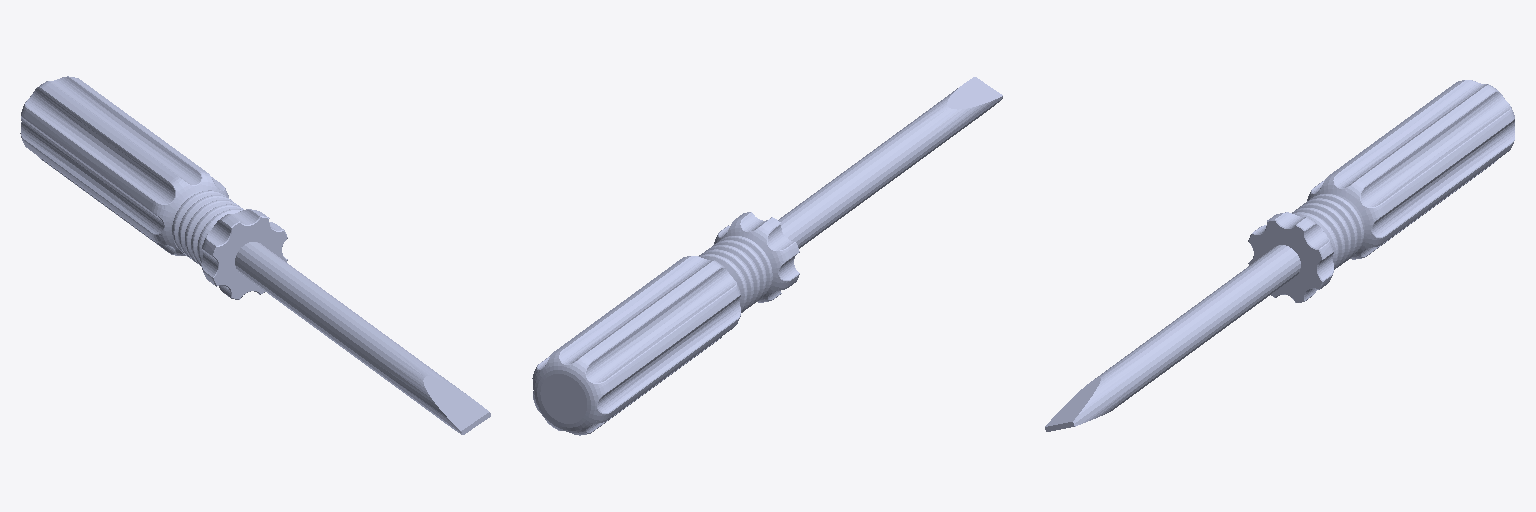
URDF robot description (screwdriver_flathead):
<robot
  name="screwdriver_flathead">
  <link
    name="screwdriver_flathead">
    <inertial>
      <origin
        xyz="-2.5375E-07 -0.14813 -8.471299999093E-08"
        rpy="0 0 0" />
      <mass
        value="0.44245" />
      <inertia
        ixx="0.00496369316155027"
        ixy="1.51493739646637E-08"
        ixz="1.73323032923498E-08"
        iyy="8.96282349725575E-05"
        iyz="-4.38558257116339E-09"
        izz="0.00496372690488569" />
    </inertial>
    <visual>
      <origin
        xyz="0 0 0"
        rpy="0 0 0" />
      <geometry>
        <mesh
          filename="package://screwdriver_flathead/meshes/screwdriver_flathead.dae" />
      </geometry>
      <material
        name="">
        <color
          rgba="0.79216 0.81961 0.93333 1" />
      </material>
    </visual>
    <collision>
      <origin
        xyz="0 0 0"
        rpy="0 0 0" />
      <geometry>
        <mesh
          filename="package://screwdriver_flathead/meshes/screwdriver_flathead.dae" />
      </geometry>
    </collision>
  </link>
</robot>

--- Render facts (derived) ---
3 views of the same robot in one strip: view 1: azimuth 30°, elevation 25°; view 2: azimuth 150°, elevation 25°; view 3: azimuth 330°, elevation 25° (orthographic).
Model screwdriver_flathead with 1 links and 0 joints (none), rooted at screwdriver_flathead, posed all joints at 0.
Visible links, largest first — view 1: screwdriver_flathead; view 2: screwdriver_flathead; view 3: screwdriver_flathead.
Boxes of the visible links, x1,y1,x2,y2 form: screwdriver_flathead: (20,76,490,434); screwdriver_flathead: (532,77,1002,435); screwdriver_flathead: (1045,80,1514,431).
Bounding box of the posed robot: 0.0481 × 0.47 × 0.0481 m (x, y, z).
1 mesh visuals loaded from 1 distinct referenced files (1 Collada DAE).